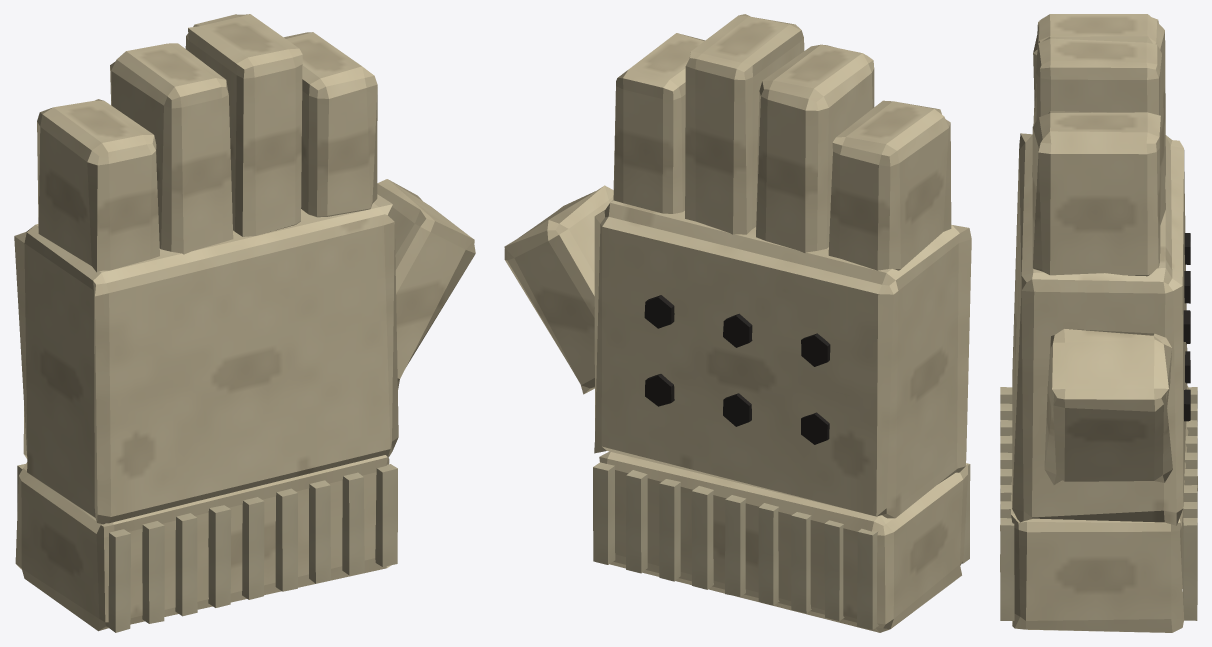
File: cotton_gloves.glb
3 views of the same model, side by side, from view 1: azimuth 30°, elevation 25°; view 2: azimuth 150°, elevation 25°; view 3: azimuth 270°, elevation 25° (orthographic).
Visible parts, largest first — view 1: CottonGloves; view 2: CottonGloves; view 3: CottonGloves.
Boxes of the visible parts, bbox=[...] form: CottonGloves: bbox=[14, 14, 475, 632]; CottonGloves: bbox=[504, 14, 971, 632]; CottonGloves: bbox=[1000, 14, 1197, 632].
Bounding box in the file's own units: 0.3737 × 0.4695 × 0.1574.
3 materials, 2 textured.
